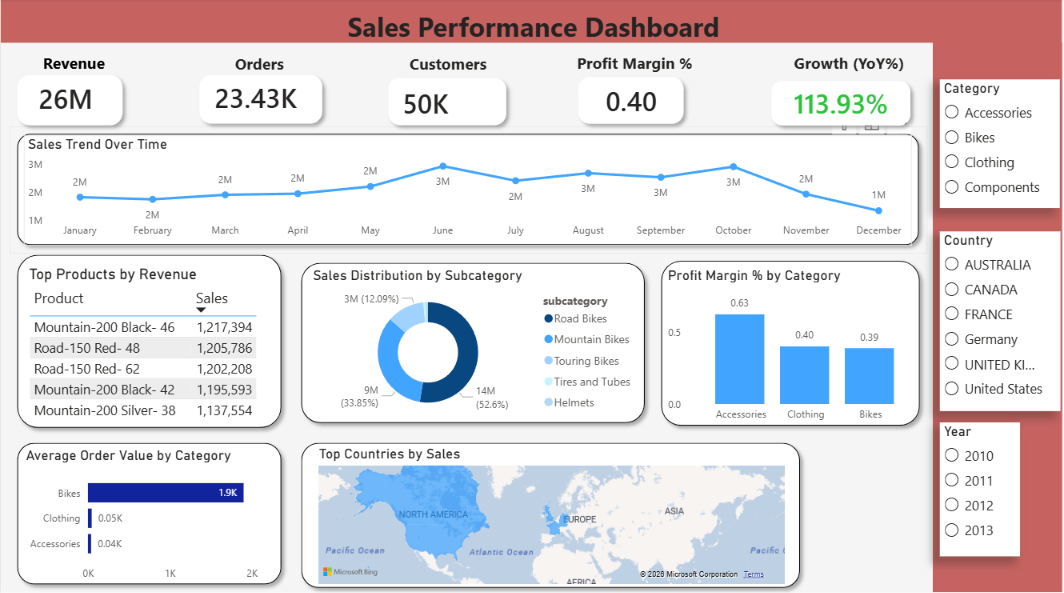

What the dashboard file says about the page in this screenshot:
{"tool":"powerbi","page":{"name":"Page 1","canvas":[1280,720],"ordinal":0},"visuals":[{"type":"actionButton","box":[0,0,100,39.4],"z":0},{"type":"group","id":"g1","title":"Group 1","box":[11.3,526.8,336.6,188.7],"z":1000},{"type":"group","id":"g2","title":"Group 2","box":[353.5,309.9,432.4,211.3],"z":2000},{"type":"group","id":"g3","title":"Group 3","box":[787.3,307,329.6,216.9],"z":3000},{"type":"group","id":"g4","title":"Group 4","box":[11.3,300,336.6,226.8],"z":4000},{"type":"shape","box":[353.5,526.8,619.7,193],"z":4000,"group":"g5"},{"type":"shape","box":[11.3,300,336.6,226.8],"z":5000,"group":"g4"},{"type":"group","id":"g5","title":"Group 5","box":[353.5,526.8,619.7,193],"z":5000},{"type":"group","id":"g6","title":"Group 6","box":[11.3,154.9,1105.6,152.1],"z":6000},{"type":"shape","box":[787.3,307,329.8,216.9],"z":6000,"group":"g3"},{"type":"filledMap","title":"Top Countries by Sales","fields":{"Category":["dim_customers.country"]},"box":[378.3,538.4,572,171.8],"z":6000,"group":"g5"},{"type":"shape","box":[0,0,1280.3,53.5],"z":7000},{"type":"tableEx","title":"Top Products by Revenue","fields":{"Values":["dim_products.product_name","Sum(fact_sales.sales_amount)"]},"box":[29.2,321.5,300,194.6],"z":7000,"group":"g4"},{"type":"shape","box":[1123.9,53.5,156.3,663.4],"z":8000},{"type":"shape","box":[11.3,154.9,1105.6,152.1],"z":8000,"group":"g18"},{"type":"columnChart","title":"Profit Margin % by Category","fields":{"Category":["dim_products.category"],"Y":["dim_customers.Profit Margin %"]},"box":[799.5,323.2,317.4,196.2],"z":8000,"group":"g3"},{"type":"textbox","box":[4.2,7,1276.1,53.5],"z":9000},{"type":"lineChart","title":"Sales Trend Over Time","fields":{"Y":["Sum(fact_sales.sales_amount)"],"Category":["fact_sales.order_date.Variation.Date Hierarchy.Month"]},"box":[28.3,166,1071.6,132.4],"z":9000,"group":"g18"},{"type":"listSlicer","title":"Category","fields":{"Values":["dim_products.category"]},"box":[1132.4,97.2,145.1,154.9],"z":10000},{"type":"listSlicer","title":"Country","fields":{"Values":["dim_customers.country"]},"box":[1132.5,280.5,145.5,216.9],"z":11000},{"type":"listSlicer","title":"Year","fields":{"Values":["fact_sales.order_date.Variation.Date Hierarchy.Year"]},"box":[1132.4,511.3,97.2,162],"z":12000},{"type":"textbox","box":[604.2,74.6,71.8,36.6],"z":13000},{"type":"group","id":"g7","title":"Group 7","box":[11.3,83.1,145.1,78.9],"z":13000,"group":"g8"},{"type":"shape","box":[353.5,309.9,432.4,211.3],"z":13000,"group":"g2"},{"type":"group","id":"g8","title":"Group 10","box":[11.3,60.6,145.1,101.4],"z":14000,"group":"g17"},{"type":"group","id":"g9","title":"Group 8","box":[230.5,84.4,166.5,76.8],"z":14000,"group":"g10"},{"type":"group","id":"g10","title":"Group 14","box":[230.5,62.3,166.5,98.9],"z":15000,"group":"g17"},{"type":"group","id":"g11","title":"Group 9","box":[458.6,87.3,160.5,75.1],"z":15000,"group":"g12"},{"type":"donutChart","title":"Sales Distribution by Subcategory","fields":{"Category":["dim_products.subcategory"],"Y":["Sum(fact_sales.sales_amount)"]},"box":[371.8,322.6,402.8,188.7],"z":15000,"group":"g2"},{"type":"shape","box":[230.5,84.4,166.5,76.8],"z":15500,"group":"g9"},{"type":"group","id":"g12","title":"Group 15","box":[458.6,62.3,160.5,100.1],"z":16000,"group":"g17"},{"type":"shape","box":[11.3,526.8,336.6,188.7],"z":16000,"group":"g1"},{"type":"cardVisual","title":"Total Orders","fields":{"Data":["Count(fact_sales.order_number)"]},"box":[245.9,98.4,140.3,40.5],"z":16500,"group":"g9"},{"type":"group","id":"g13","title":"Group 16","box":[685.9,60.6,159.2,100],"z":17000,"group":"g17"},{"type":"group","id":"g14","title":"Group 11","box":[688.7,86,145.1,74.6],"z":17000,"group":"g13"},{"type":"clusteredBarChart","title":"Average Order Value by Category","fields":{"Category":["dim_products.category"],"Y":["dim_customers.Measure"]},"box":[26,539.5,307.7,171.8],"z":17000,"group":"g1"},{"type":"group","id":"g15","title":"Group 17","box":[921.2,60.6,185.9,101.4],"z":18000,"group":"g17"},{"type":"shape","box":[11.3,83.1,145.1,78.9],"z":18000,"group":"g7"},{"type":"shape","box":[688.7,86,145.1,74.6],"z":18000,"group":"g14"},{"type":"shape","box":[458.6,87.3,160.5,75.1],"z":18000,"group":"g11"},{"type":"group","id":"g16","title":"Group 12","box":[921.2,90.2,185.9,71.8],"z":18000,"group":"g15"},{"type":"shape","box":[921.2,90.2,185.9,71.8],"z":18000,"group":"g16"},{"type":"group","id":"g17","title":"Group 18","box":[11.3,60.6,1095.8,101.9],"z":18001},{"type":"textbox","box":[45.1,60.6,87.3,42.3],"z":19000,"group":"g8"},{"type":"cardVisual","title":"Total Sales","fields":{"Data":["Sum(fact_sales.sales_amount)"]},"box":[34.2,83.1,109.9,71.7],"z":19000,"group":"g7"},{"type":"cardVisual","title":"Profit Margin %","fields":{"Data":["dim_customers.Profit Margin %"]},"box":[718.3,97.3,91.5,50.7],"z":19000,"group":"g14"},{"type":"cardVisual","title":"Growth(YoY % )","fields":{"Data":["dim_customers.YoY %"]},"box":[945.1,100.1,138,49.3],"z":19000,"group":"g16"},{"type":"cardVisual","title":"Total Customers","fields":{"Data":["CountNonNull(fact_sales.customer_key)"]},"box":[473.4,105.3,133.6,39.3],"z":19000,"group":"g11"},{"type":"textbox","box":[277,62.3,78.6,36.3],"z":19001,"group":"g10"},{"type":"textbox","box":[475.3,62.3,128.7,36.2],"z":19002,"group":"g12"},{"type":"group","id":"g18","title":"Group 13","box":[11.3,154.9,1105.6,152.1],"z":19002,"group":"g6"},{"type":"textbox","box":[685.9,60.6,159.2,36.6],"z":19004,"group":"g13"},{"type":"textbox","box":[945.1,60.6,157.7,36.6],"z":19005,"group":"g15"}]}

Visuals, with their boxes in screenshot pixels (x1, y1, x2, y2), scaled from the page's 1280x720 canvas onto the 1064x593 screenshot:
actionButton: (x1=0, y1=0, x2=83, y2=32)
"Group 1" group: (x1=9, y1=434, x2=289, y2=589)
"Group 2" group: (x1=294, y1=255, x2=653, y2=429)
"Group 3" group: (x1=654, y1=253, x2=928, y2=431)
"Group 4" group: (x1=9, y1=247, x2=289, y2=434)
shape: (x1=294, y1=434, x2=809, y2=592)
shape: (x1=9, y1=247, x2=289, y2=434)
"Group 5" group: (x1=294, y1=434, x2=809, y2=592)
"Group 6" group: (x1=9, y1=128, x2=928, y2=253)
shape: (x1=654, y1=253, x2=929, y2=431)
"Top Countries by Sales" filledMap: (x1=314, y1=443, x2=790, y2=585)
shape: (x1=0, y1=0, x2=1063, y2=44)
"Top Products by Revenue" tableEx: (x1=24, y1=265, x2=274, y2=425)
shape: (x1=934, y1=44, x2=1063, y2=590)
shape: (x1=9, y1=128, x2=928, y2=253)
"Profit Margin % by Category" columnChart: (x1=665, y1=266, x2=928, y2=428)
textbox: (x1=3, y1=6, x2=1063, y2=50)
"Sales Trend Over Time" lineChart: (x1=24, y1=137, x2=914, y2=246)
"Category" listSlicer: (x1=941, y1=80, x2=1062, y2=208)
"Country" listSlicer: (x1=941, y1=231, x2=1062, y2=410)
"Year" listSlicer: (x1=941, y1=421, x2=1022, y2=555)
textbox: (x1=502, y1=61, x2=562, y2=92)
"Group 7" group: (x1=9, y1=68, x2=130, y2=133)
shape: (x1=294, y1=255, x2=653, y2=429)
"Group 10" group: (x1=9, y1=50, x2=130, y2=133)
"Group 8" group: (x1=192, y1=70, x2=330, y2=133)
"Group 14" group: (x1=192, y1=51, x2=330, y2=133)
"Group 9" group: (x1=381, y1=72, x2=515, y2=134)
"Sales Distribution by Subcategory" donutChart: (x1=309, y1=266, x2=644, y2=421)
shape: (x1=192, y1=70, x2=330, y2=133)
"Group 15" group: (x1=381, y1=51, x2=515, y2=134)
shape: (x1=9, y1=434, x2=289, y2=589)
"Total Orders" cardVisual: (x1=204, y1=81, x2=321, y2=114)
"Group 16" group: (x1=570, y1=50, x2=702, y2=132)
"Group 11" group: (x1=572, y1=71, x2=693, y2=132)
"Average Order Value by Category" clusteredBarChart: (x1=22, y1=444, x2=277, y2=586)
"Group 17" group: (x1=766, y1=50, x2=920, y2=133)
shape: (x1=9, y1=68, x2=130, y2=133)
shape: (x1=572, y1=71, x2=693, y2=132)
shape: (x1=381, y1=72, x2=515, y2=134)
"Group 12" group: (x1=766, y1=74, x2=920, y2=133)
shape: (x1=766, y1=74, x2=920, y2=133)
"Group 18" group: (x1=9, y1=50, x2=920, y2=134)
textbox: (x1=37, y1=50, x2=110, y2=85)
"Total Sales" cardVisual: (x1=28, y1=68, x2=120, y2=127)
"Profit Margin %" cardVisual: (x1=597, y1=80, x2=673, y2=122)
"Growth(YoY % )" cardVisual: (x1=786, y1=82, x2=900, y2=123)
"Total Customers" cardVisual: (x1=394, y1=87, x2=505, y2=119)
textbox: (x1=230, y1=51, x2=296, y2=81)
textbox: (x1=395, y1=51, x2=502, y2=81)
"Group 13" group: (x1=9, y1=128, x2=928, y2=253)
textbox: (x1=570, y1=50, x2=702, y2=80)
textbox: (x1=786, y1=50, x2=917, y2=80)
